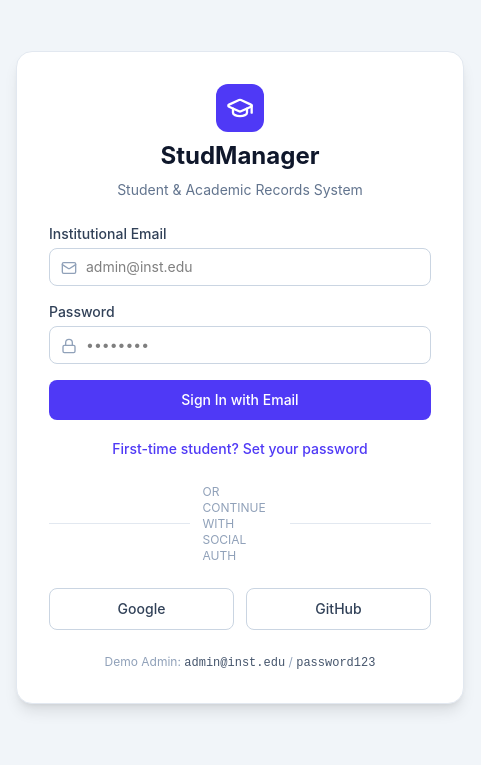
Test: Login Page › triggers social login buttons and handles errors
Click the button "GitHub" at (338, 608), box [246,588,431,630]
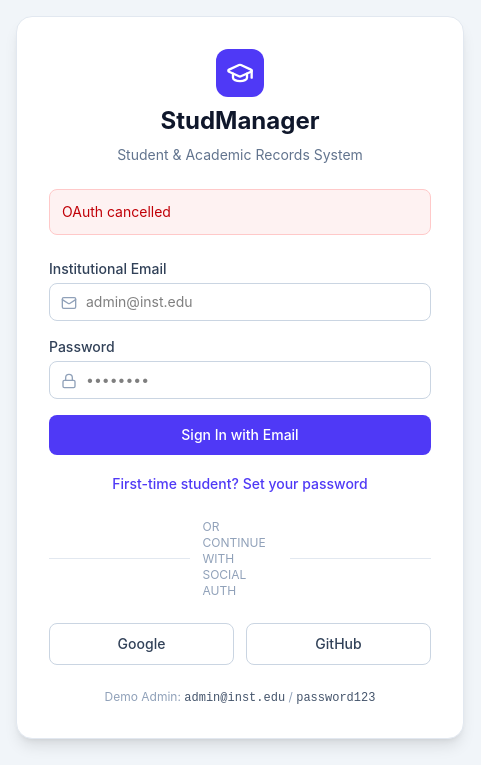
Now the text "OAuth cancelled" is shown, box [49,188,431,234]
